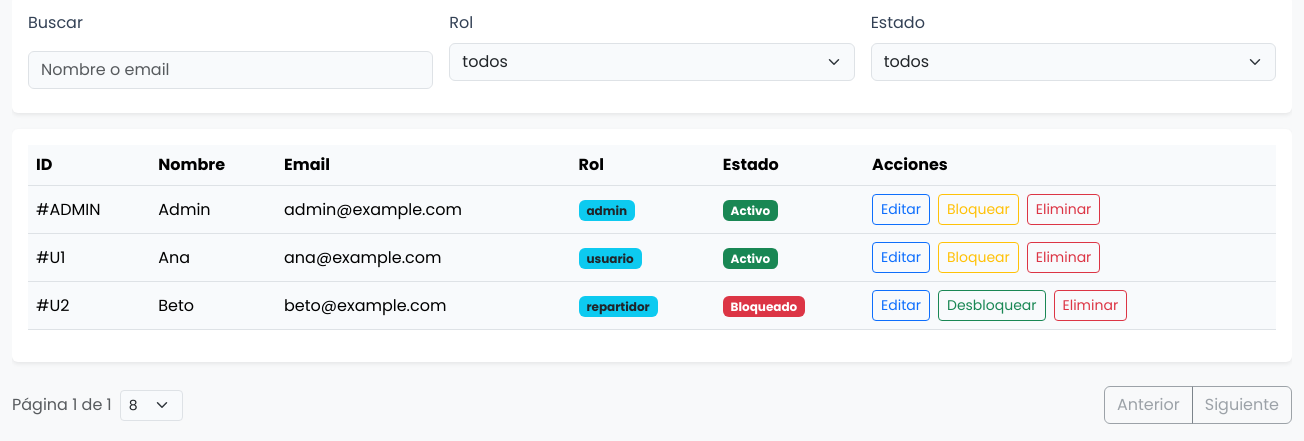
UsersTable › renderiza y filtra por rol
This screenshot has width=1304, height=441.
Expected: the text "Ana" is shown, [150, 234, 276, 282]
Expected: the text "Beto" is shown, [150, 282, 276, 330]
Select "usuario" in the dropdown labelled "Rol" at (652, 62), box [449, 43, 855, 81]
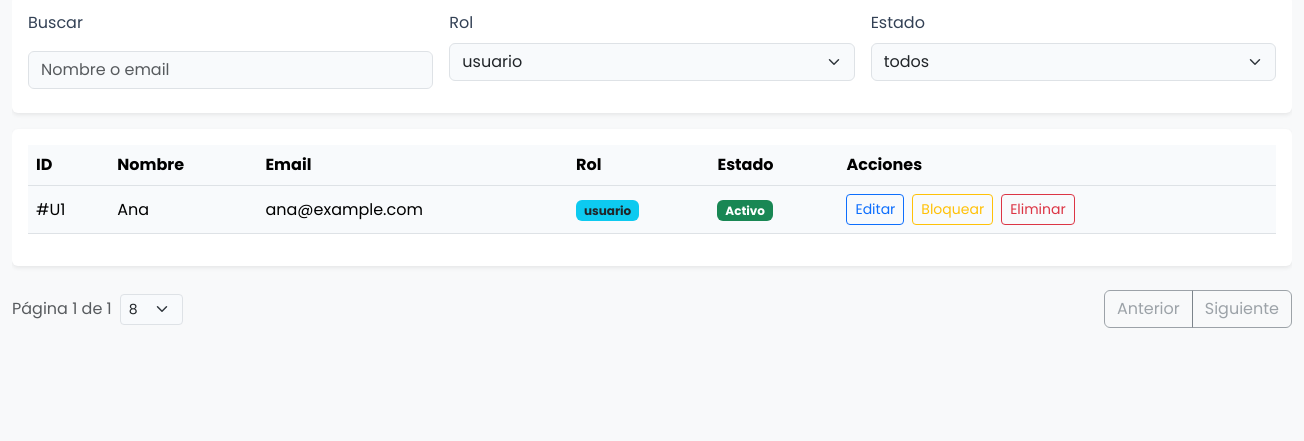
Expected: the text "Ana" is shown, [109, 186, 258, 234]
Expected: the text "Beto" is gone
